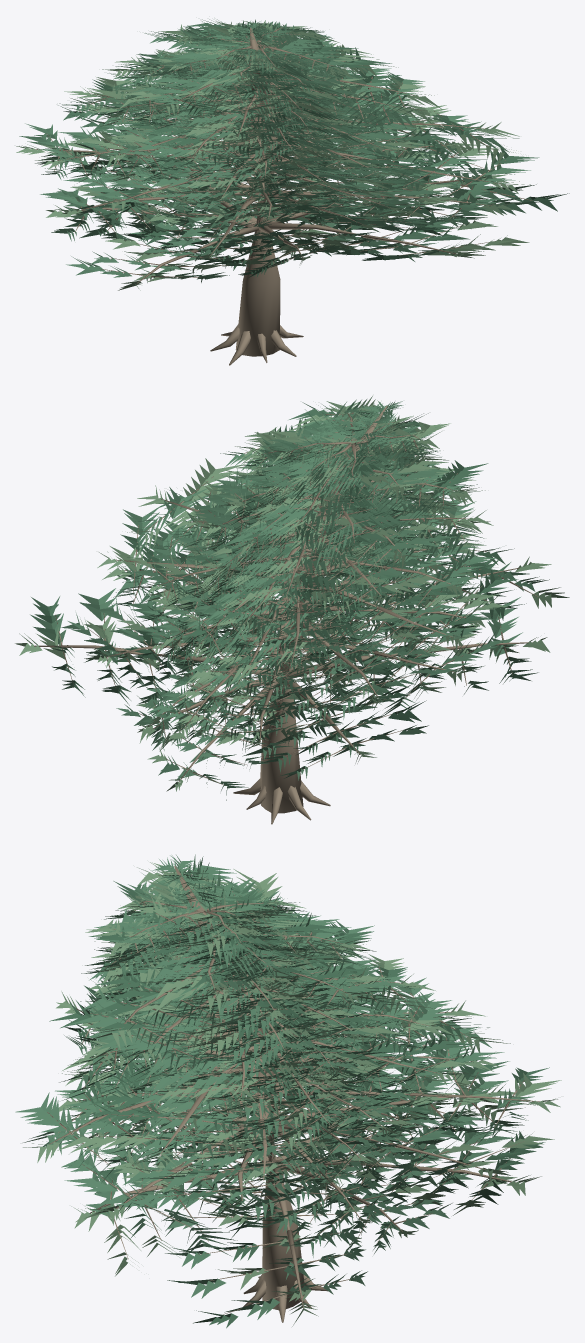
The model's file is cedar_5.glb.
The picture shows the model from 3 angles, top to bottom: view 1: azimuth 30°, elevation 25°; view 2: azimuth 150°, elevation 25°; view 3: azimuth 270°, elevation 25°; orthographic projection. The views are drawn at different scales.
Parts seen in each view (by area): view 1: tree_conifer_ConiferLeaf, tree_conifer_ConiferLeafLight, tree_conifer_ConiferLeafDark, tree_conifer_ConiferBark; view 2: tree_conifer_ConiferLeaf, tree_conifer_ConiferLeafLight, tree_conifer_ConiferLeafDark, tree_conifer_ConiferBark; view 3: tree_conifer_ConiferLeaf, tree_conifer_ConiferLeafLight, tree_conifer_ConiferLeafDark, tree_conifer_ConiferBark.
Part boxes in pixels (x1,y1,x2,y2): tree_conifer_ConiferLeaf: (19,19,538,282); tree_conifer_ConiferLeafLight: (16,20,530,290); tree_conifer_ConiferLeafDark: (58,19,569,277); tree_conifer_ConiferBark: (35,24,532,365); tree_conifer_ConiferLeaf: (30,400,549,780); tree_conifer_ConiferLeafLight: (15,396,569,791); tree_conifer_ConiferLeafDark: (31,399,526,800); tree_conifer_ConiferBark: (34,406,537,824); tree_conifer_ConiferLeaf: (15,854,534,1319); tree_conifer_ConiferLeafLight: (23,862,561,1326); tree_conifer_ConiferLeafDark: (43,880,549,1328); tree_conifer_ConiferBark: (47,866,539,1322).
Bounding box in the file's own units: 12.96 × 9.23 × 11.41.
